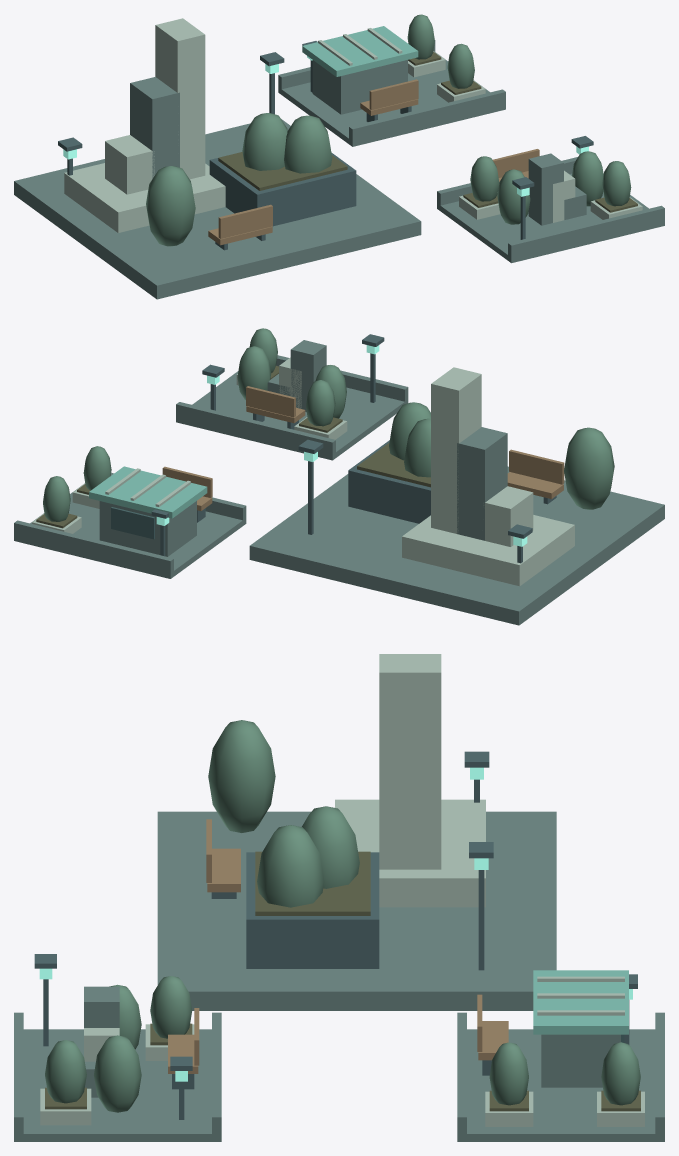
Rendered from ancient-night.glb.
The picture shows the model from 3 angles, top to bottom: view 1: azimuth 30°, elevation 25°; view 2: azimuth 150°, elevation 25°; view 3: azimuth 270°, elevation 25°; orthographic projection. The views are drawn at different scales.
Visible parts, largest first — view 1: ARENA stone (×15), ARENA paving (×3), ARENA leaves (×9), ARENA wood (×4), ARENA canopy, ARENA wall, ARENA soil; view 2: ARENA stone (×12), ARENA paving (×3), ARENA leaves (×9), ARENA wood (×4), ARENA canopy, ARENA wall, ARENA soil, ARENA window; view 3: ARENA paving (×3), ARENA stone (×12), ARENA leaves (×9), ARENA canopy, ARENA wall, ARENA soil, ARENA wood (×3), ARENA metal.
Part boxes in pixels (x1,y1,x2,y2): ARENA stone (×15): (64,18,664,257); ARENA paving (×3): (14,52,664,299); ARENA leaves (×9): (146,14,631,246); ARENA wood (×4): (208,79,539,245); ARENA canopy: (302,26,418,76); ARENA wall: (312,60,407,114); ARENA soil: (218,152,347,190); ARENA stone (×12): (14,340,574,586); ARENA paving (×3): (14,371,664,625); ARENA leaves (×9): (43,328,614,521); ARENA wood (×4): (162,386,564,499); ARENA canopy: (89,466,207,518); ARENA wall: (99,501,196,556); ARENA soil: (357,443,430,487); ARENA window: (111,507,154,539); ARENA paving (×3): (14,811,664,1141); ARENA stone (×12): (14,654,664,1137); ARENA leaves (×9): (45,720,640,1112); ARENA canopy: (533,970,628,1034); ARENA wall: (541,1034,620,1087); ARENA soil: (255,851,370,915); ARENA wood (×3): (168,848,508,1073); ARENA metal: (478,870,484,970).
Size of the model in its own units: 8.3 by 3.05 by 7.34.
